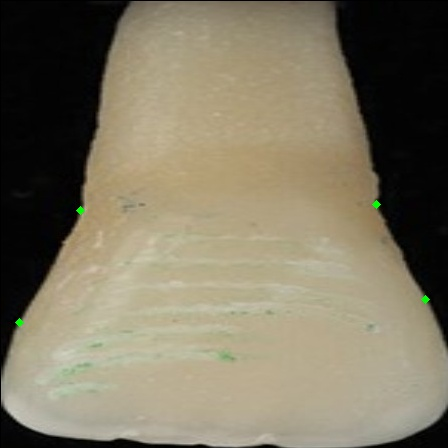coin_1: (376, 204, 396, 224)
coin_2: (425, 299, 445, 319)
coin_3: (80, 210, 100, 230)
coin_4: (19, 322, 39, 342)
